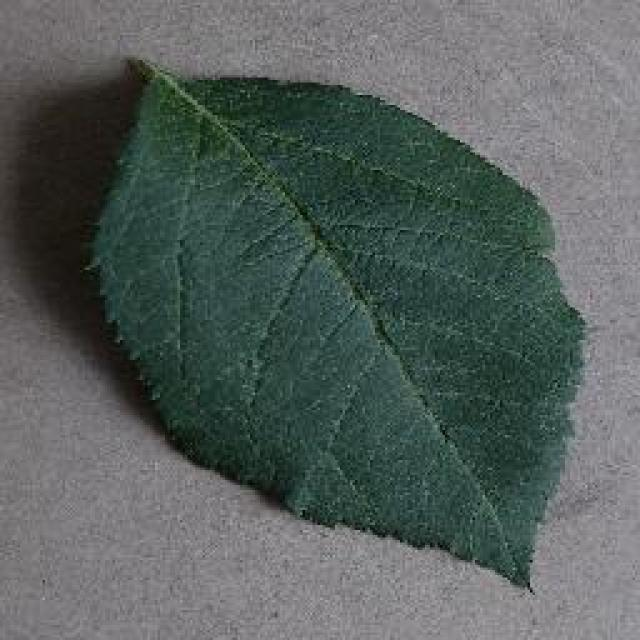apple healthy: (82, 52, 590, 592)
